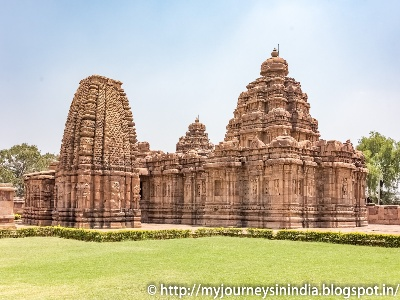gopuram: (45, 60, 151, 190), (237, 61, 322, 150)
